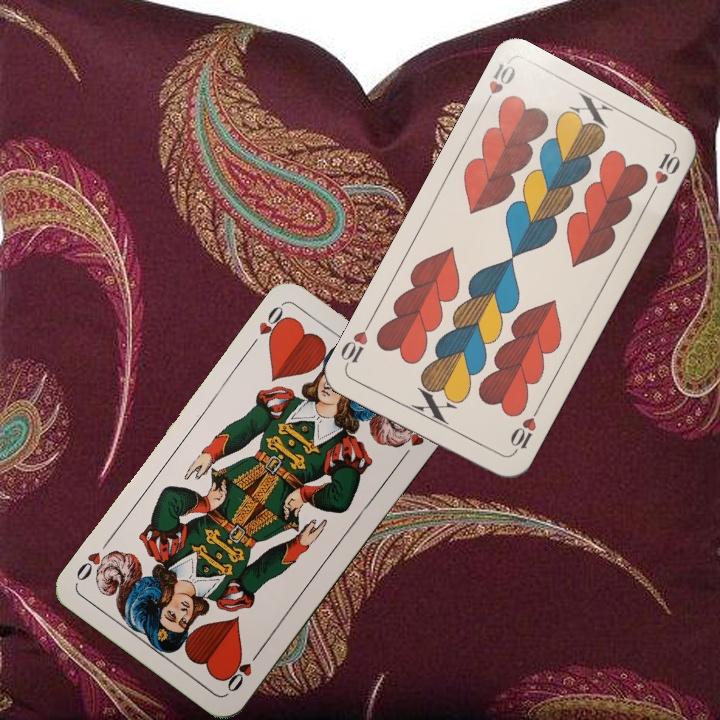H10: (477, 58, 519, 113), (506, 404, 542, 458)
HO: (245, 300, 292, 351), (221, 645, 264, 695)
